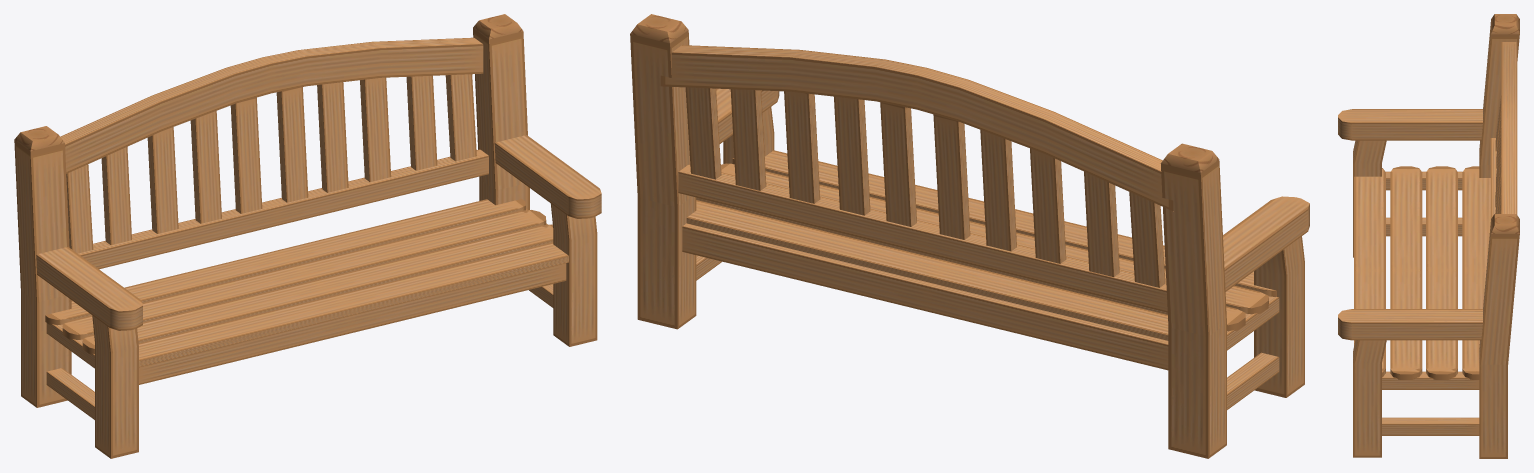
The model's file is Bin (1).fbx.
The picture shows the model from 3 angles, left to right: view 1: azimuth 30°, elevation 25°; view 2: azimuth 150°, elevation 25°; view 3: azimuth 270°, elevation 25°; orthographic projection. The views are drawn at different scales.
Parts seen in each view (by area): view 1: Bin (1); view 2: Bin (1); view 3: Bin (1).
Boxes of the visible parts, bbox=[...] form: Bin (1): bbox=[14, 14, 601, 458]; Bin (1): bbox=[630, 14, 1309, 458]; Bin (1): bbox=[1338, 14, 1519, 458].
Bounding box in the file's own units: 1.19 × 0.6332 × 0.425.
